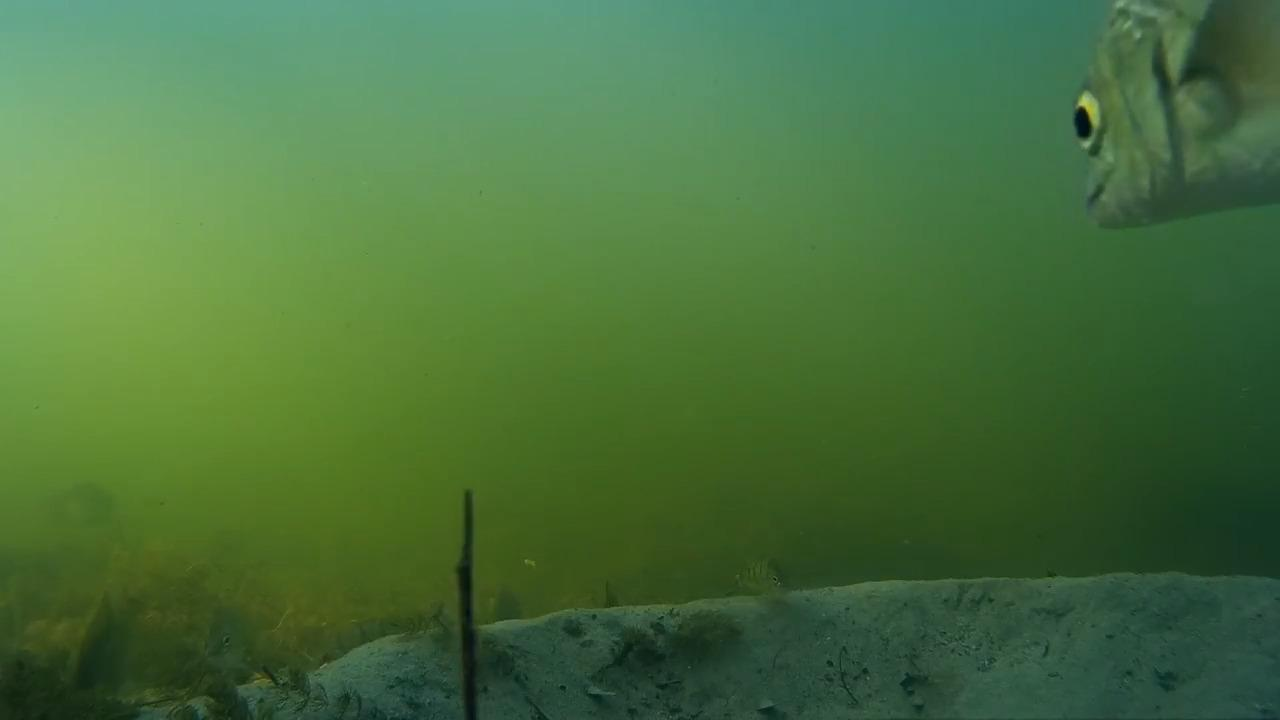Tilapia: (1060, 0, 1275, 252), (31, 460, 141, 552), (192, 598, 269, 692), (723, 538, 796, 612)
